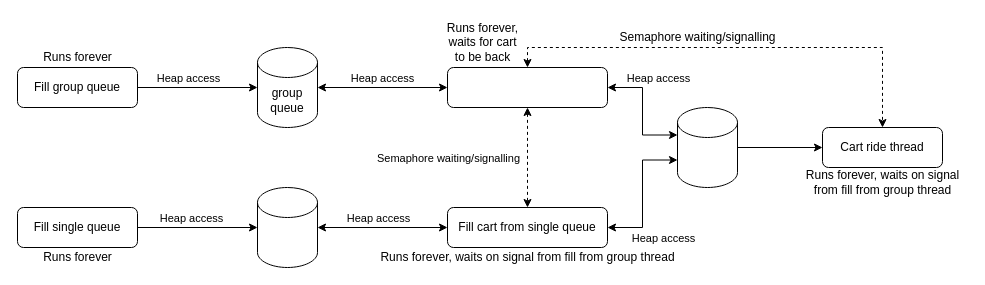
The diagram is 985 pixels wide and 285 high, and some of its shapes have lost their labels. The shapes that lost their labels are listed below. From the top down, each one's box as (x1, y1, x2, y2) in pixels, then its label:
(446, 66, 608, 108): Fill cart from group queue
(676, 106, 738, 188): Cart
(256, 186, 318, 268): single queue
